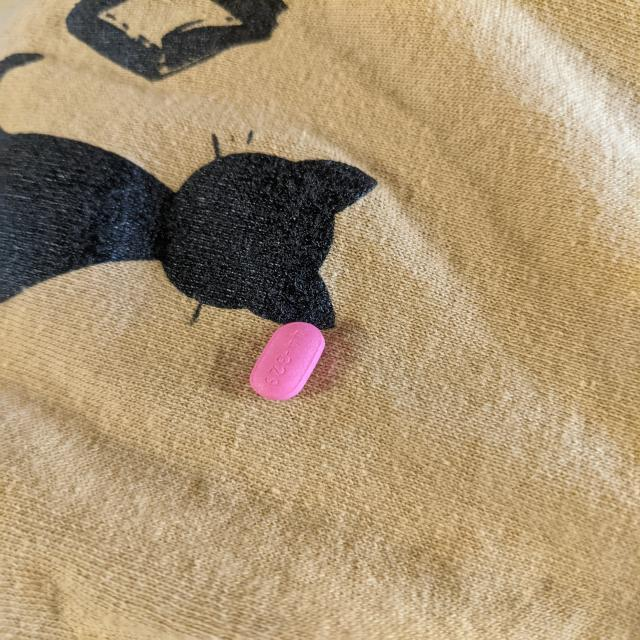non-organic waste: (248, 321, 326, 401)
